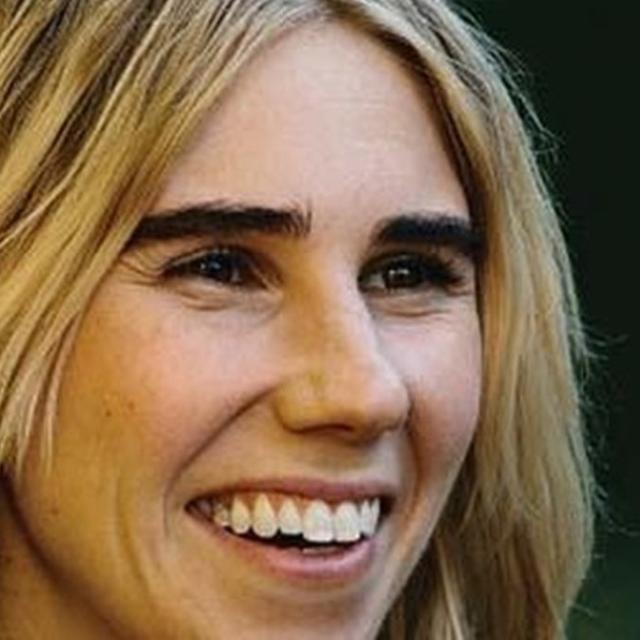Normal: (9, 6, 481, 639)
